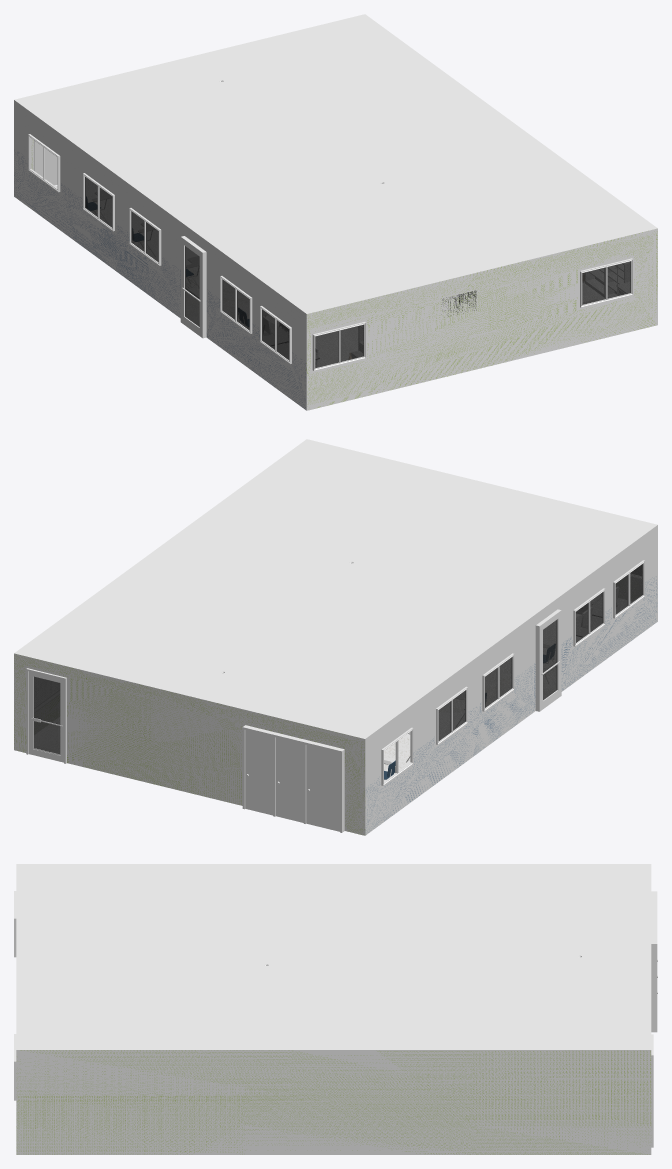
3 views of the same model, one above another, from view 1: azimuth 30°, elevation 25°; view 2: azimuth 150°, elevation 25°; view 3: azimuth 270°, elevation 25° (orthographic). The views are drawn at different scales.
Parts seen in each view (by area): view 1: SketchUp (×4), Door_Glass_3-0x7-0 (×2), group_0 (×2), group_1 (×2), FlushDoor36; view 2: SketchUp (×4), FlushDoor30 (×2), group_11 (×2), FlushDoor36, Door_Glass_3-0x7-0 (×2), Cabinet_4_, Door_3-0x6-8, Door_Glass_3-2x7-0_Framed, Door_2-6x6-8; view 3: SketchUp (×2), Door_2-6x6-8.
Part boxes in pixels (left/top/right/bottom): SketchUp (×4): left=14, top=14, right=657, bottom=410; Door_Glass_3-0x7-0 (×2): left=180, top=236, right=206, bottom=338; group_0 (×2): left=340, top=261, right=630, bottom=361; group_1 (×2): left=315, top=267, right=605, bottom=368; FlushDoor36: left=36, top=142, right=57, bottom=185; SketchUp (×4): left=14, top=439, right=657, bottom=835; FlushDoor30 (×2): left=245, top=730, right=303, bottom=822; group_11 (×2): left=28, top=671, right=63, bottom=762; FlushDoor36: left=306, top=745, right=339, bottom=831; Door_Glass_3-0x7-0 (×2): left=535, top=609, right=561, bottom=711; Cabinet_4_: left=141, top=692, right=186, bottom=736; Door_3-0x6-8: left=304, top=740, right=344, bottom=832; Door_Glass_3-2x7-0_Framed: left=26, top=668, right=66, bottom=763; Door_2-6x6-8: left=242, top=725, right=275, bottom=815; SketchUp (×2): left=16, top=864, right=651, bottom=1154; Door_2-6x6-8: left=651, top=926, right=657, bottom=1032.
Size of the model in its own units: 374 by 541 by 97.88.
